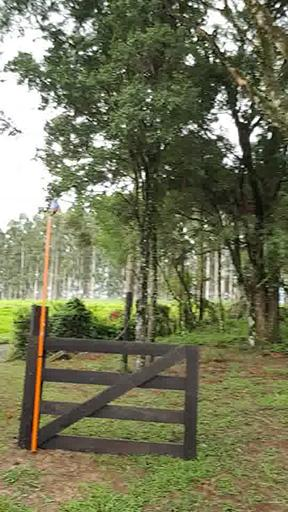Vara_Manobra: (30, 219, 54, 451)
